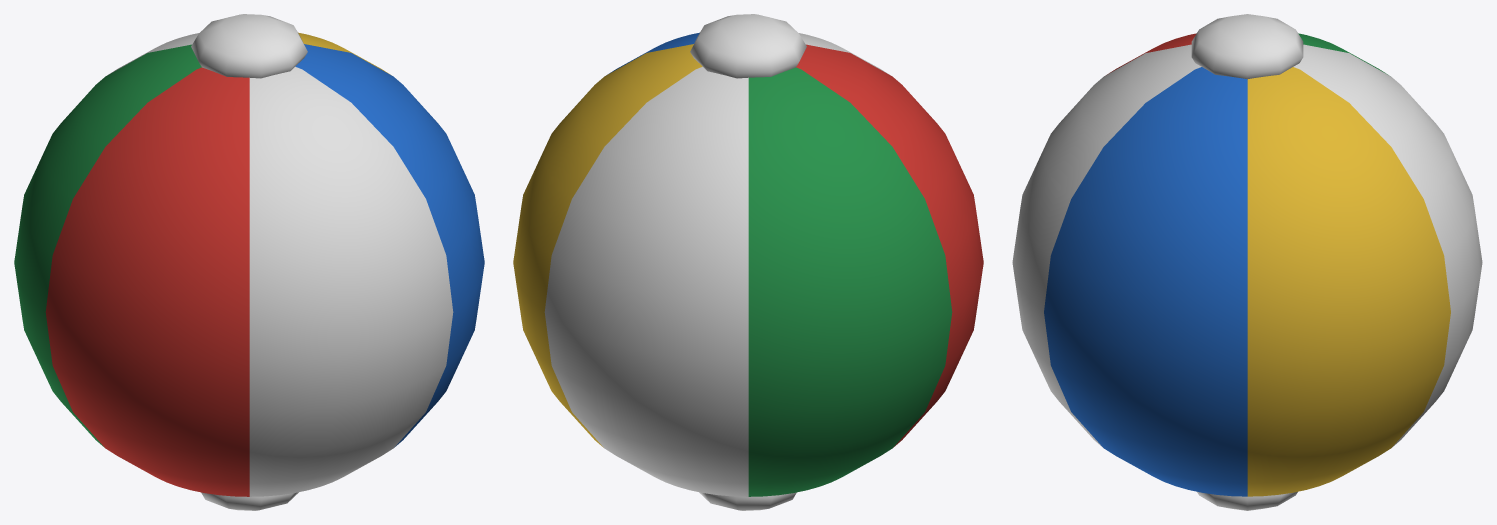
File: ball.glb
The picture shows the model from 3 angles, left to right: view 1: azimuth 30°, elevation 25°; view 2: azimuth 150°, elevation 25°; view 3: azimuth 270°, elevation 25°; orthographic projection.
Visible parts, largest first — view 1: ball; view 2: ball; view 3: ball.
Part boxes in pixels (left/top/right/bottom): ball: left=14, top=14, right=484, bottom=510; ball: left=513, top=14, right=983, bottom=510; ball: left=1012, top=14, right=1482, bottom=510.
Bounding box in the file's own units: 0.6 × 0.675 × 0.6.
